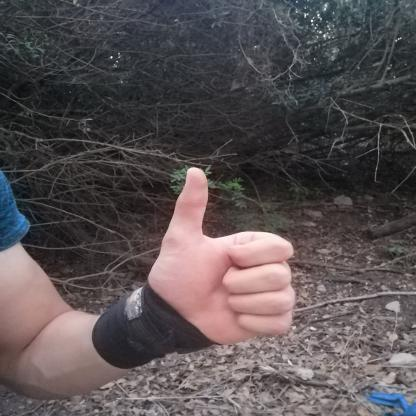ALIF: (132, 155, 310, 360)
